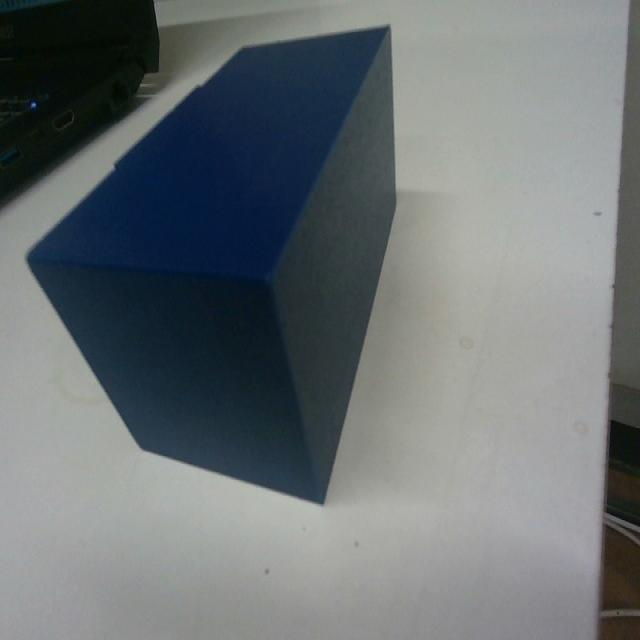Blue Cuboid: (25, 20, 399, 507)
